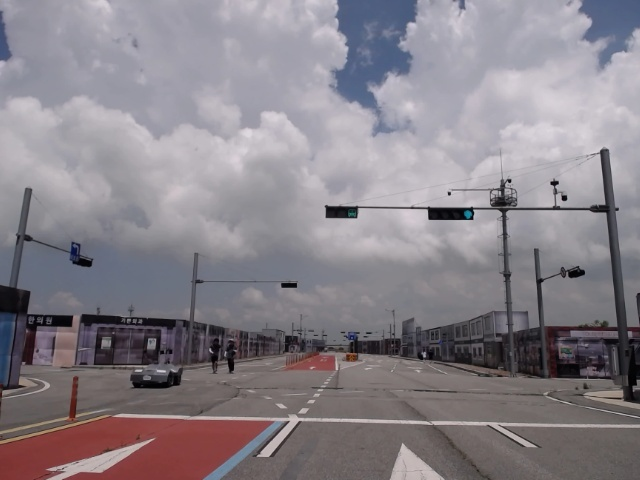straight_green_4: (429, 207, 475, 220)
